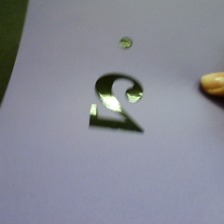violet2: (80, 33, 151, 138)
